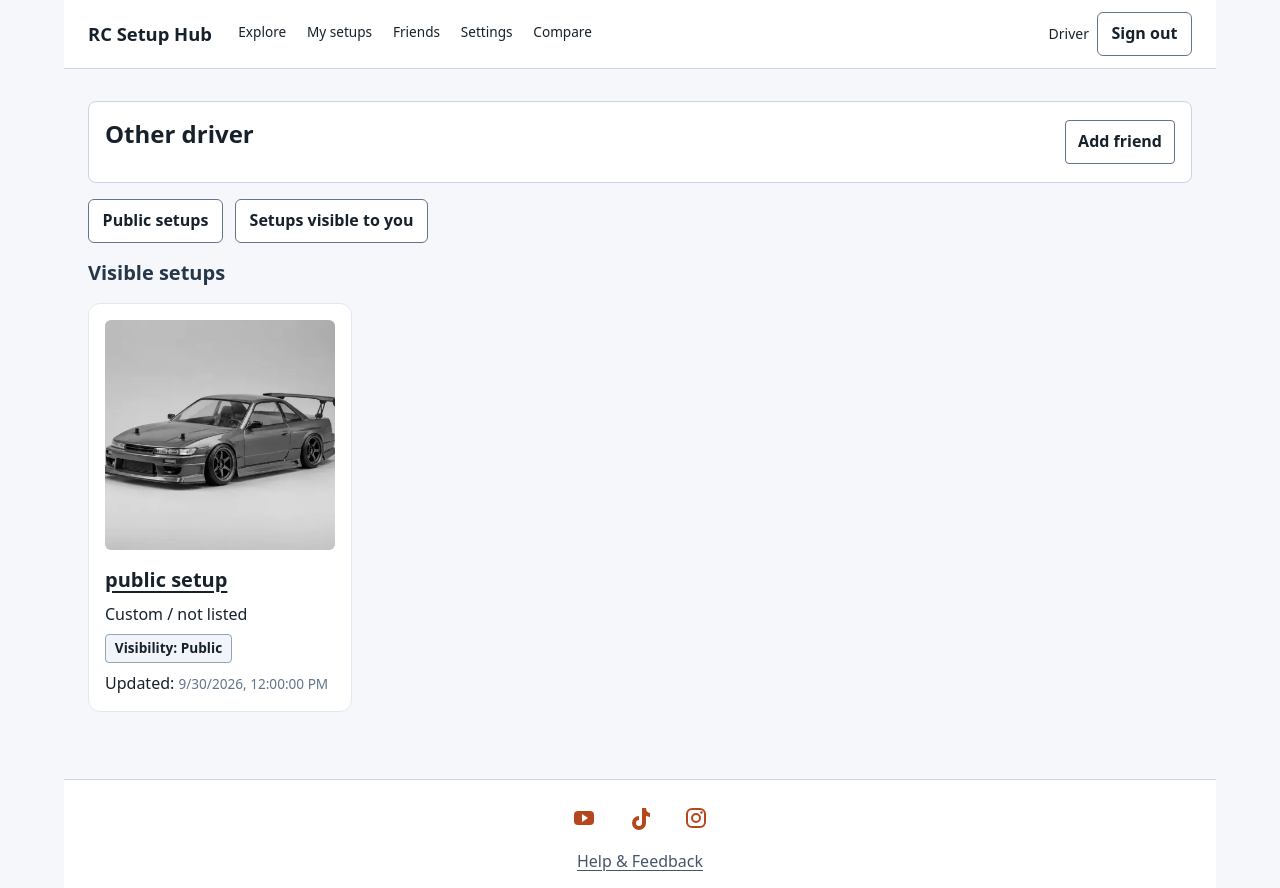
Test: renders exactly returned setups for unrelated without permission queries, N+1 or detail seeding
Expected: the number of pictures with alt text "No setup photo — placeholder" is 1, top-left (105, 320), bottom-right (335, 550)
Expected: the text "Custom / not listed" is shown, top-left (105, 603), bottom-right (247, 625)
Step 1. Click the link "public setup" → {"x": 166, "y": 580}, box top-left (105, 566), bottom-right (227, 593)
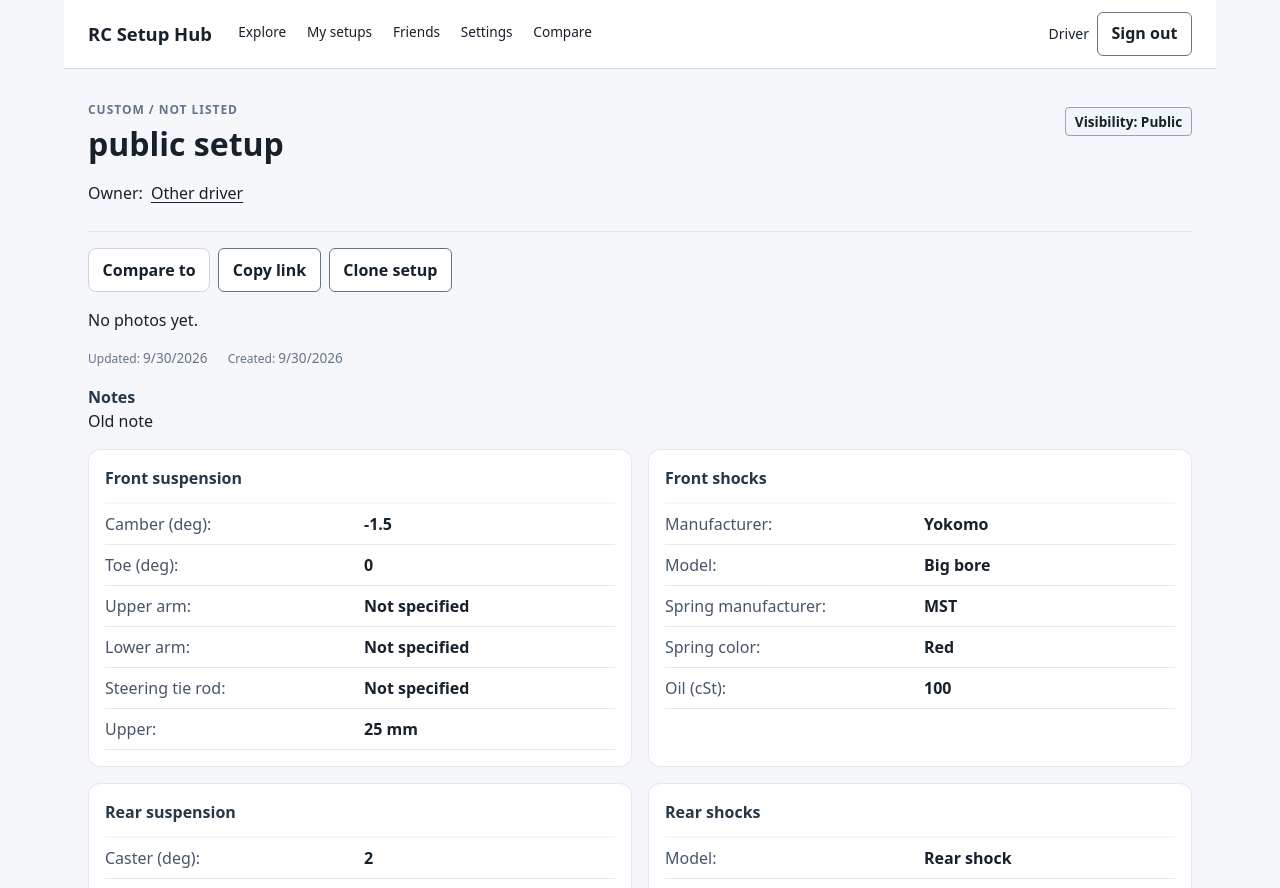
Expected: the button "Copy link" is shown, top-left (218, 248), bottom-right (321, 292)
